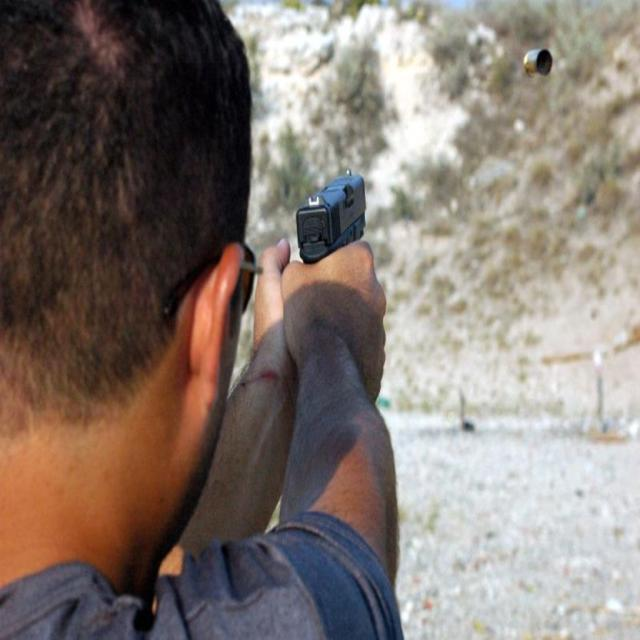Gun: (298, 171, 366, 262)
